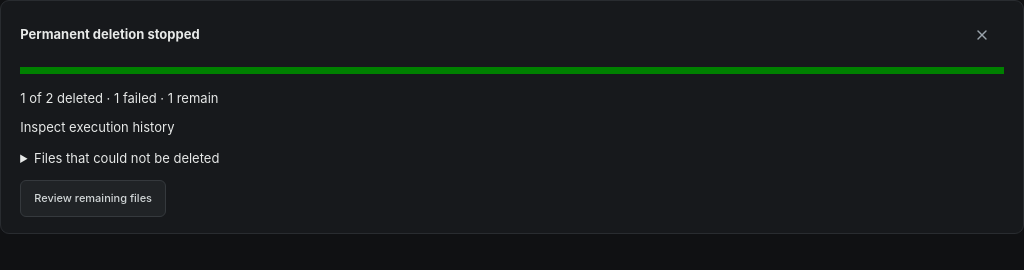
it: partial results show exact failures and retry only remaining artifact identities
Expected: the text "1 of 2 deleted · 1 failed · 1 remain" is shown, [20,90,218,106]
Click the heading "Files that could not be deleted".
click(127, 158)  # box [34,150,219,166]
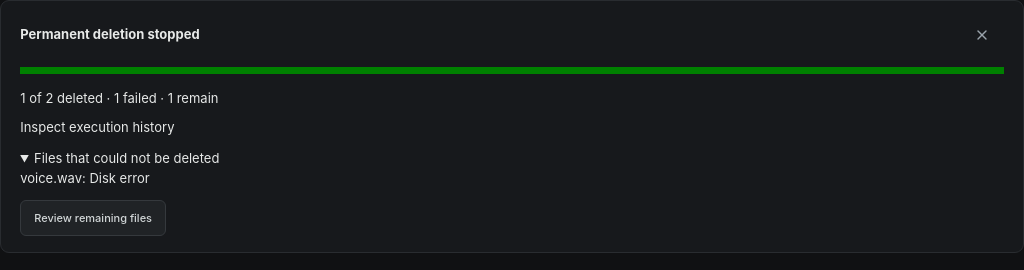
Expected: the list item "voice.wav: Disk error" is shown, [20,170,150,186]
Click the button "Review remaining files".
click(93, 218)  # box [20,200,166,236]
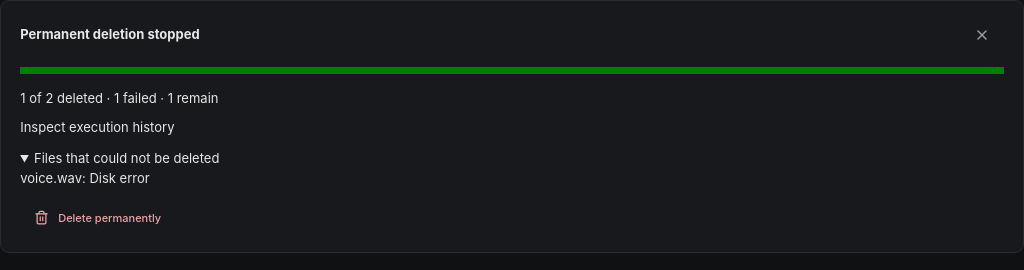
Expected: the button "Delete permanently" is shown, [20,200,175,236]
